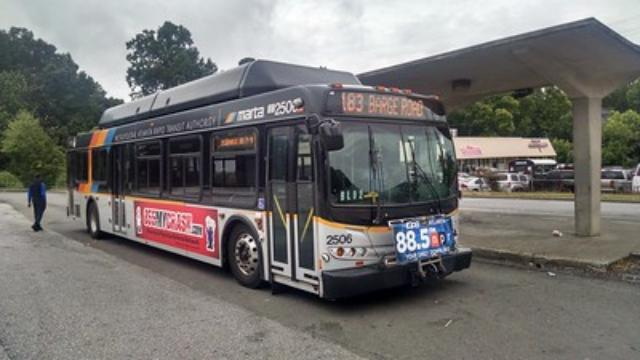bus: (66, 56, 472, 306)
